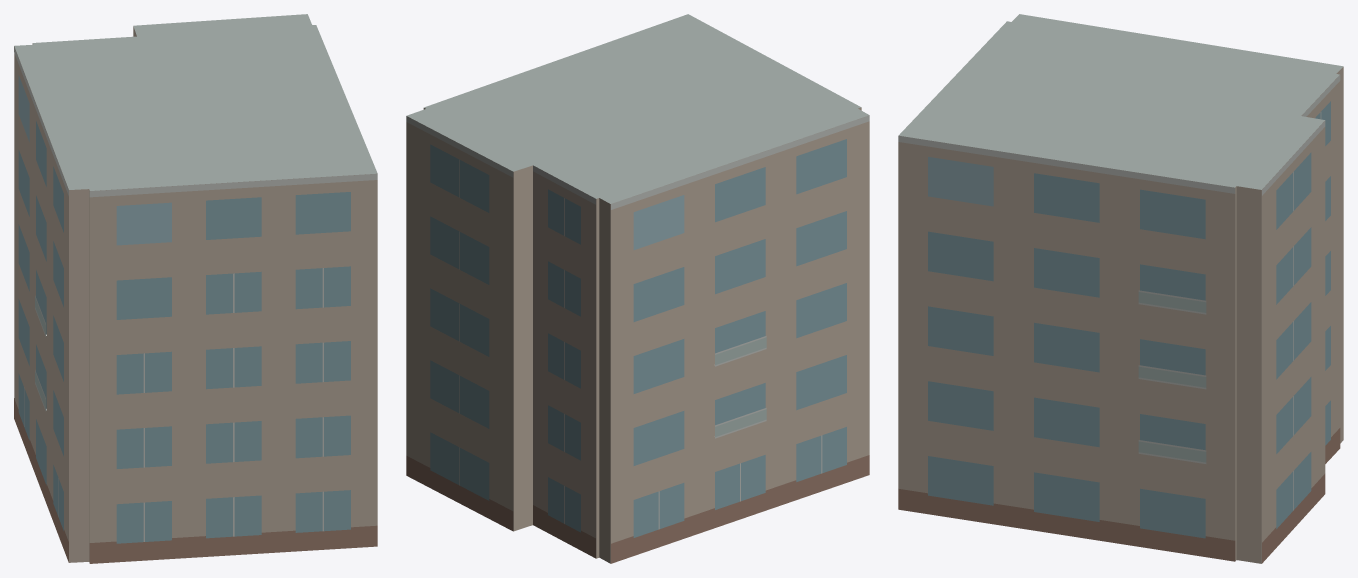
The model's file is survey-upis-32669102.glb.
3 renders of one model, left to right at view 1: azimuth 30°, elevation 25°; view 2: azimuth 150°, elevation 25°; view 3: azimuth 270°, elevation 25°, orthographic. The views are drawn at different scales.
Visible parts, largest first — view 1: survey-upis-32669102.tmp; view 2: survey-upis-32669102.tmp; view 3: survey-upis-32669102.tmp.
Part boxes in pixels (<box>): survey-upis-32669102.tmp: <box>14,14,377,563</box>; survey-upis-32669102.tmp: <box>406,14,869,563</box>; survey-upis-32669102.tmp: <box>898,14,1343,563</box>.
Bounding box in the file's own units: 14.64 × 14.5 × 15.65.
